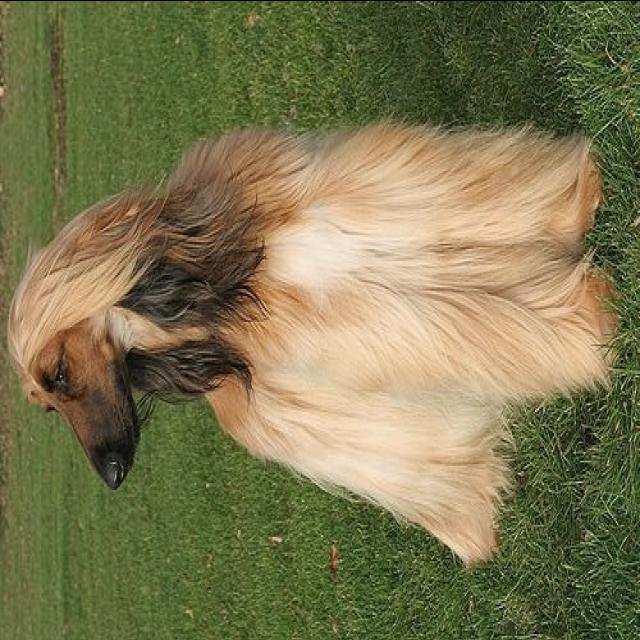afghan_hound: (6, 110, 624, 566)
